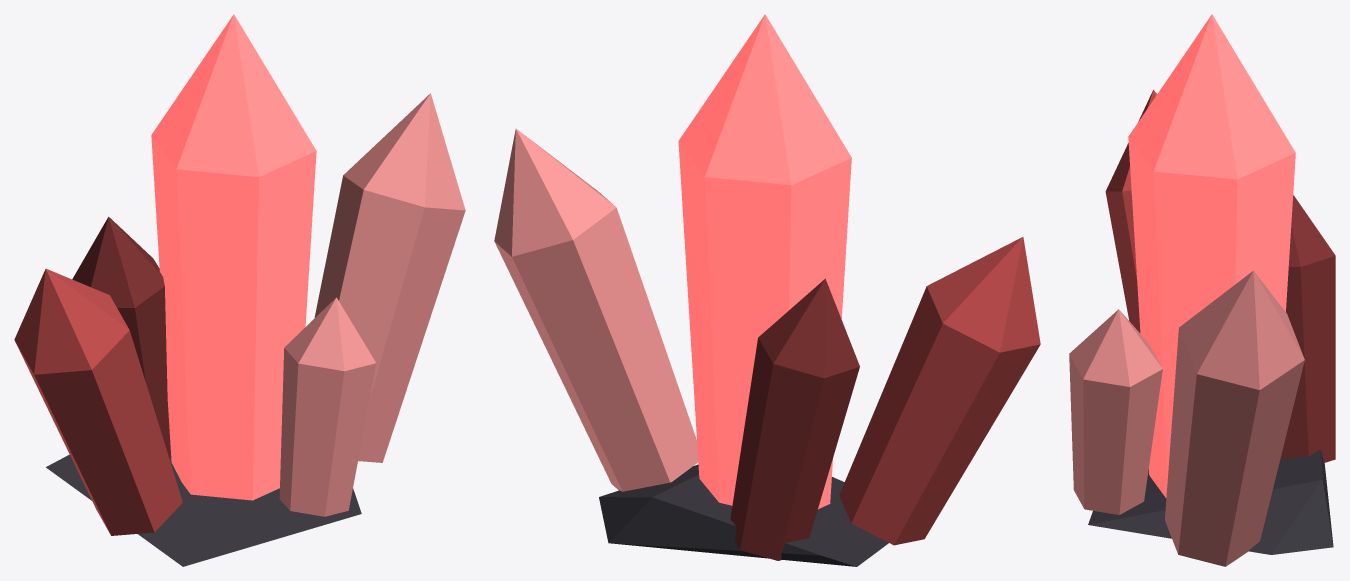
File: crystal.glb
3 views of the same model, side by side, from view 1: azimuth 30°, elevation 25°; view 2: azimuth 150°, elevation 25°; view 3: azimuth 270°, elevation 25° (orthographic). The views are drawn at different scales.
Parts seen in each view (by area): view 1: crystal; view 2: crystal; view 3: crystal.
Boxes of the visible parts, x1,y1,x2,y2 form: crystal: (14,14,465,566); crystal: (494,14,1040,566); crystal: (1069,14,1335,566).
Bounding box in the file's own units: 0.3173 × 0.32 × 0.1551.
